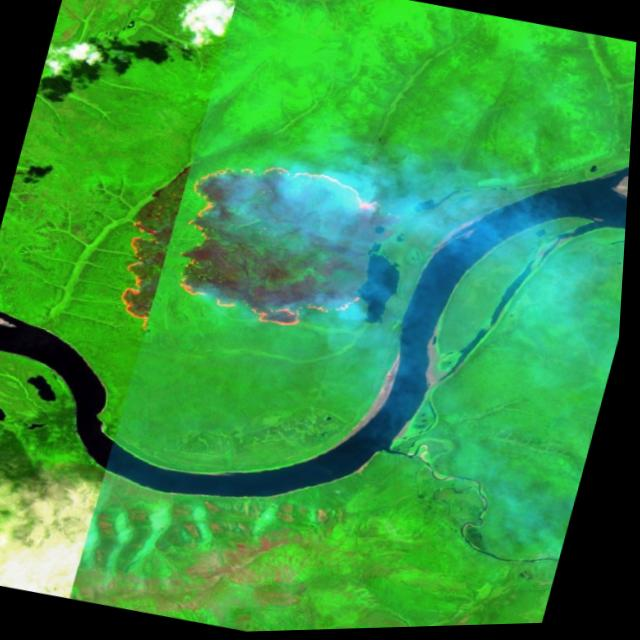fire: (113, 135, 405, 373)
